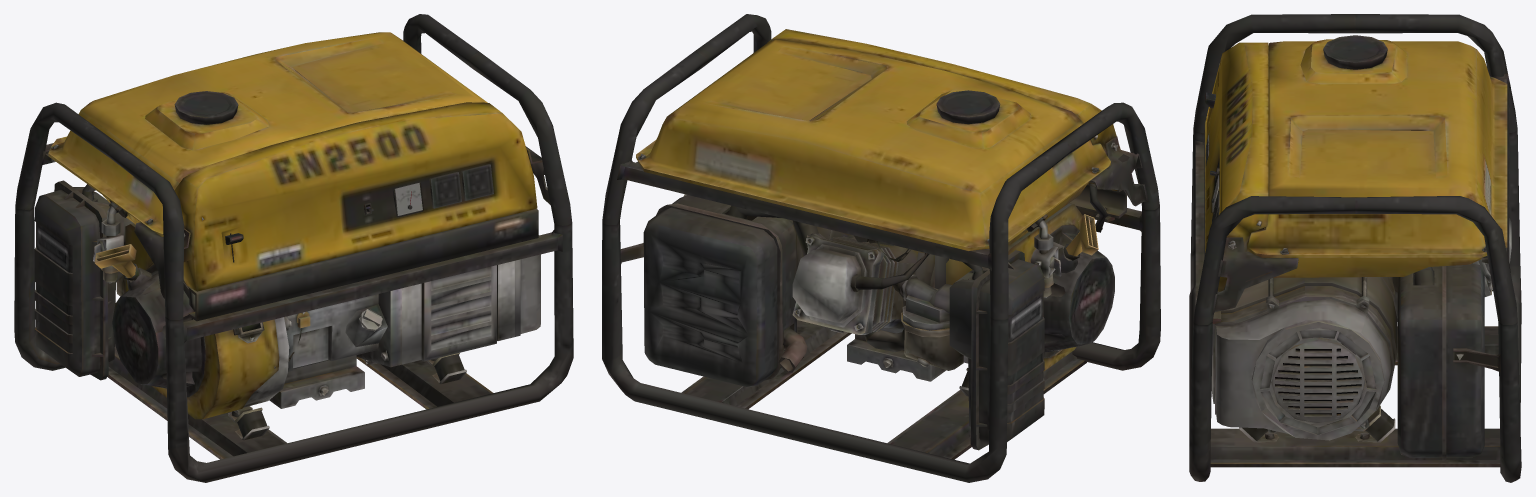
The model's file is portable_generator.glb.
3 views of the same model, side by side, from view 1: azimuth 30°, elevation 25°; view 2: azimuth 150°, elevation 25°; view 3: azimuth 270°, elevation 25° (orthographic).
Parts seen in each view (by area): view 1: portable_generator; view 2: portable_generator; view 3: portable_generator.
Part boxes in pixels (<box>): portable_generator: <box>14,14,573,482</box>; portable_generator: <box>602,14,1160,482</box>; portable_generator: <box>1189,14,1521,482</box>.
Bounding box in the file's own units: 0.8166 × 0.5752 × 0.564.
2 materials, 2 textured.
